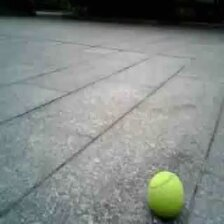tennis: (146, 173, 183, 215)
